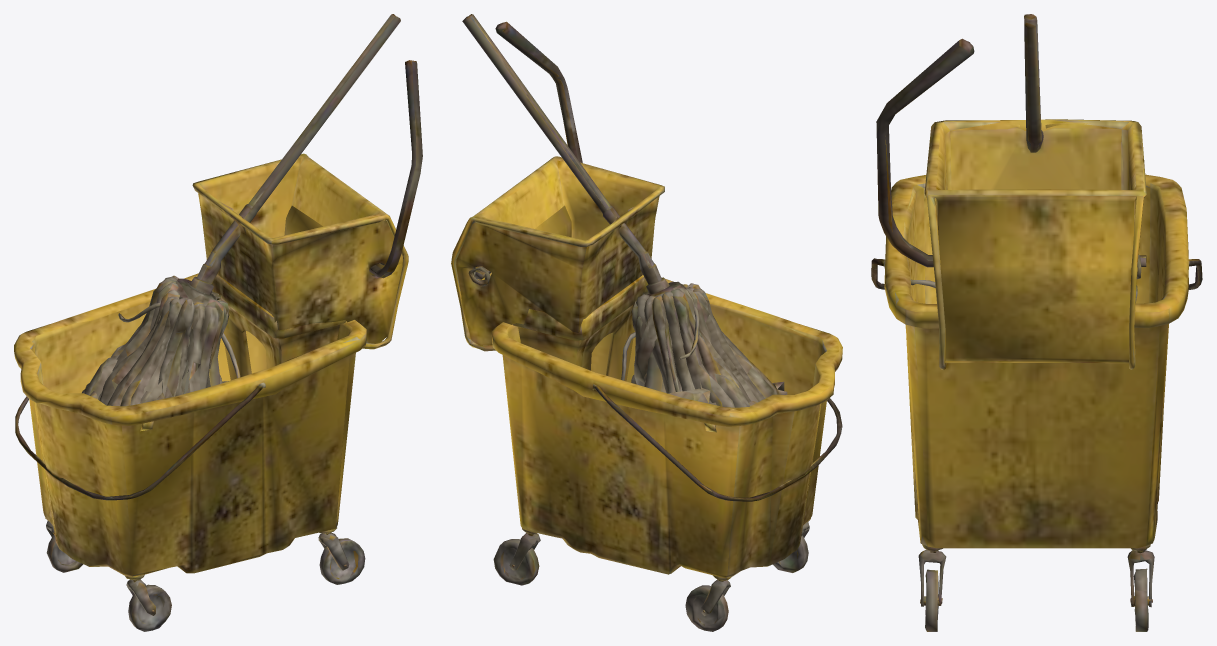
The model's file is mop.glb.
3 renders of one model, left to right at view 1: azimuth 30°, elevation 25°; view 2: azimuth 150°, elevation 25°; view 3: azimuth 270°, elevation 25°, orthographic. The views are drawn at different scales.
Bounding box in the file's own units: 0.7481 × 1 × 0.4493.
1 material, 1 textured.
